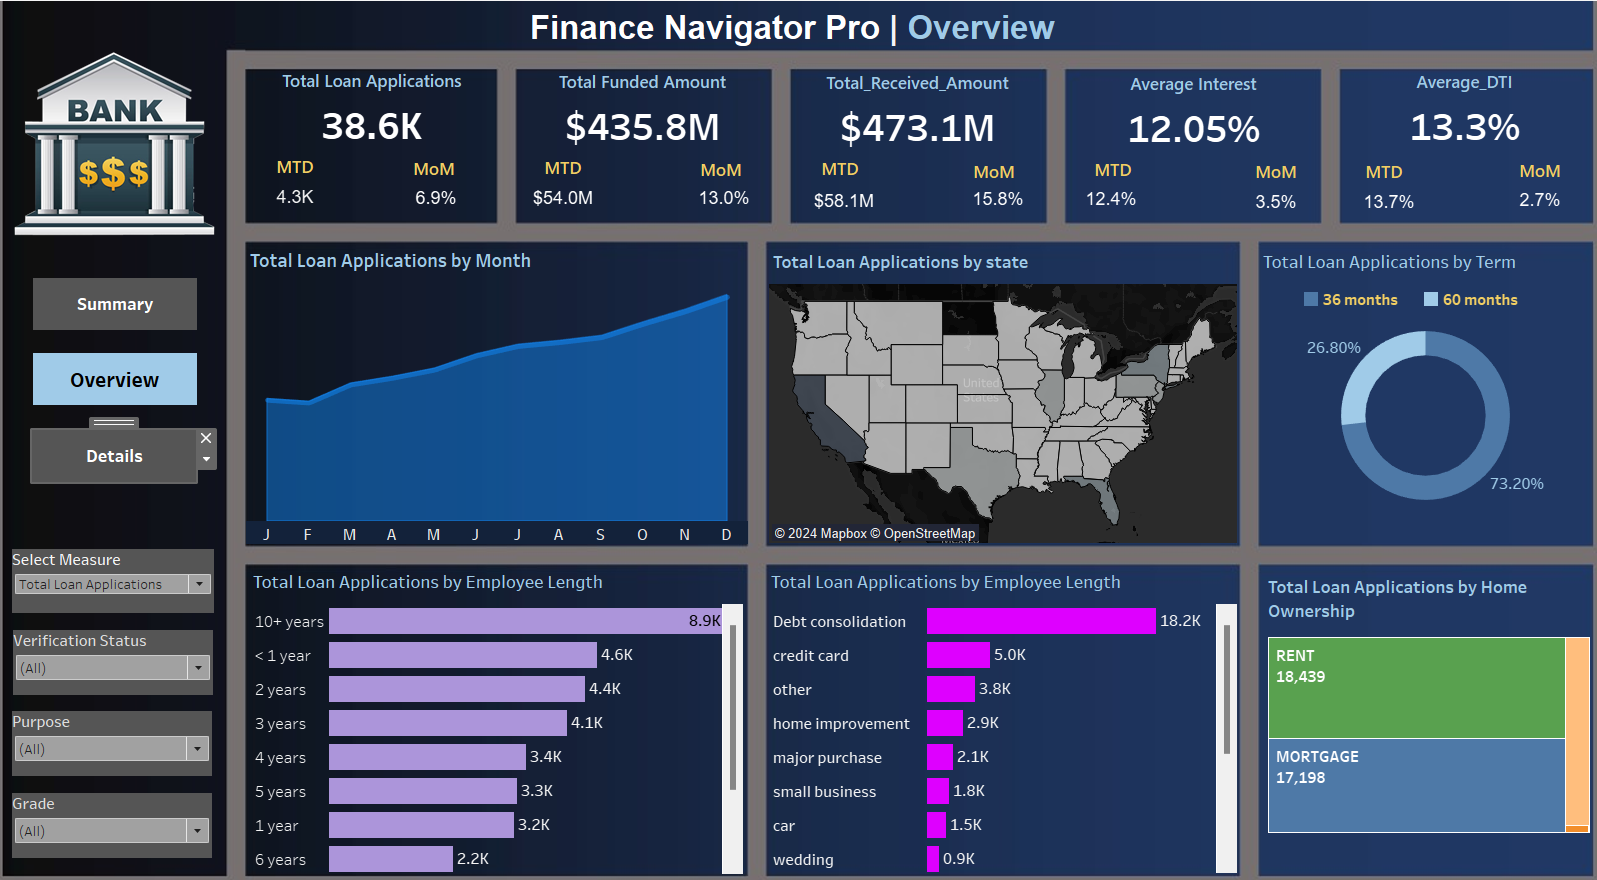

This screenshot's page, from the dashboard's own definition file:
{"tool":"tableau","page":{"name":"Overview","canvas":[1600,900],"ordinal":1},"visuals":[{"type":"text","box":[482,6,622,42]},{"type":"image","param":"Image/Tableau Background 1.jpg","box":[8,8,792,884]},{"type":"image","box":[800,8,792,884]},{"type":"image","param":"Image/logo1.png","box":[9,44,273,195]},{"type":"worksheet","title":"Total Loan Applications","mark":"Automatic","box":[247,64,252,80]},{"type":"worksheet","title":"Total Funded Amount","mark":"Automatic","box":[519,65,249,79]},{"type":"worksheet","title":"Average_DTI","mark":"Automatic","box":[1339,65,253,80]},{"type":"worksheet","title":"Total_Received_Amount","mark":"Automatic","box":[791,66,255,80]},{"type":"worksheet","title":"Average Interest","mark":"Automatic","box":[1088,67,213,79]},{"type":"worksheet","title":"MTD_DTI","mark":"Automatic","box":[1344,141,91,80]},{"type":"worksheet","title":"MoM_DTI","mark":"Automatic","box":[1496,143,89,72]},{"type":"worksheet","title":"MTD_Avgerage_Interest_Rate","mark":"Automatic","box":[1071,145,81,66]},{"type":"worksheet","title":"MoM_Avgerage_Interest_Rate","mark":"Automatic","box":[1229,147,95,67]},{"type":"text","box":[256,153,80,24]},{"type":"text","box":[524,154,80,24]},{"type":"text","box":[395,155,80,24]},{"type":"text","box":[801,155,80,24]},{"type":"text","box":[682,156,80,24]},{"type":"text","box":[1074,156,80,24]},{"type":"text","box":[1501,157,80,24]},{"type":"text","box":[955,158,80,24]},{"type":"text","box":[1237,158,80,24]},{"type":"text","box":[1345,158,80,24]},{"type":"worksheet","title":"MTD_Amount_Received","mark":"Automatic","box":[806,164,78,51]},{"type":"worksheet","title":"MoM_Loan Application ","mark":"Automatic","box":[403,175,67,43]},{"type":"worksheet","title":"MTD_Loan Application","mark":"Automatic","box":[252,178,87,35]},{"type":"worksheet","title":"MTD_Funded_Amount","mark":"Automatic","box":[527,180,74,34]},{"type":"worksheet","title":"MOM_Received_Amount","mark":"Automatic","box":[956,183,85,30]},{"type":"worksheet","title":"MoM_Funded_Amount ","mark":"Automatic","box":[690,184,70,26]},{"type":"worksheet","title":"Month","mark":"Area","rows":["Calculation_446137897162797056","Calculation_446137897162797056"],"cols":["issue_date"],"box":[247,242,502,301]},{"type":"worksheet","title":"state","mark":"Automatic","box":[770,244,468,298]},{"type":"worksheet","title":"Term","mark":"Pie","rows":["Calculation_446137897182035970","Calculation_446137897182035970"],"box":[1260,244,333,302]},{"type":"dashboard-object","box":[34,277,164,52]},{"type":"legend","title":"Term","param":"[federated.1fspyx60za0spv1bvc3qw0eojgrr].[none:term:nk]","box":[1302,288,289,32]},{"type":"dashboard-object","box":[34,352,164,52]},{"type":"dashboard-object","box":[33,429,164,52]},{"type":"parameter","param":"[Parameters].[Parameter 2]","box":[13,548,202,64]},{"type":"worksheet","title":"Employee Length","mark":"Automatic","rows":["emp_length"],"cols":["Calculation_446137897162797056"],"box":[250,564,494,309]},{"type":"worksheet","title":"Purpose","mark":"Automatic","rows":["purpose"],"cols":["Calculation_446137897162797056"],"box":[768,564,471,308]},{"type":"worksheet","title":"Home Ownership","mark":"Automatic","box":[1265,569,329,301]},{"type":"filter","title":"Average Interest","param":"[federated.1fspyx60za0spv1bvc3qw0eojgrr].[none:verification_status:nk]","box":[14,629,200,65]},{"type":"filter","title":"Average Interest","param":"[federated.1fspyx60za0spv1bvc3qw0eojgrr].[none:purpose:nk]","box":[13,710,200,65]},{"type":"filter","title":"Average Interest","param":"[federated.1fspyx60za0spv1bvc3qw0eojgrr].[none:grade:nk]","box":[13,792,200,65]}]}

Visuals, with their boxes in screenshot pixels (x1, y1, x2, y2), scaled from the page's 1600x900 canvas onto the 1597x880 screenshot:
text: locate(481, 6, 1102, 47)
image: locate(8, 8, 798, 872)
image: locate(798, 8, 1589, 872)
image: locate(9, 43, 281, 234)
"Total Loan Applications" worksheet: locate(247, 63, 498, 141)
"Total Funded Amount" worksheet: locate(518, 64, 767, 141)
"Average_DTI" worksheet: locate(1336, 64, 1589, 142)
"Total_Received_Amount" worksheet: locate(790, 65, 1044, 143)
"Average Interest" worksheet: locate(1086, 66, 1299, 143)
"MTD_DTI" worksheet: locate(1341, 138, 1432, 216)
"MoM_DTI" worksheet: locate(1493, 140, 1582, 210)
"MTD_Avgerage_Interest_Rate" worksheet: locate(1069, 142, 1150, 206)
"MoM_Avgerage_Interest_Rate" worksheet: locate(1227, 144, 1322, 209)
text: locate(256, 150, 335, 173)
text: locate(523, 151, 603, 174)
text: locate(394, 152, 474, 175)
text: locate(799, 152, 879, 175)
text: locate(681, 153, 761, 176)
text: locate(1072, 153, 1152, 176)
text: locate(1498, 154, 1578, 177)
text: locate(953, 154, 1033, 178)
text: locate(1235, 154, 1315, 178)
text: locate(1342, 154, 1422, 178)
"MTD_Amount_Received" worksheet: locate(804, 160, 882, 210)
"MoM_Loan Application " worksheet: locate(402, 171, 469, 213)
"MTD_Loan Application" worksheet: locate(252, 174, 338, 208)
"MTD_Funded_Amount" worksheet: locate(526, 176, 600, 209)
"MOM_Received_Amount" worksheet: locate(954, 179, 1039, 208)
"MoM_Funded_Amount " worksheet: locate(689, 180, 759, 205)
"Month" worksheet (Area marks): locate(247, 237, 748, 531)
"state" worksheet: locate(769, 239, 1236, 530)
"Term" worksheet (Pie marks): locate(1258, 239, 1590, 534)
dashboard-object: locate(34, 271, 198, 322)
"Term" legend: locate(1300, 282, 1588, 313)
dashboard-object: locate(34, 344, 198, 395)
dashboard-object: locate(33, 419, 197, 470)
parameter: locate(13, 536, 215, 598)
"Employee Length" worksheet: locate(250, 551, 743, 854)
"Purpose" worksheet: locate(767, 551, 1237, 853)
"Home Ownership" worksheet: locate(1263, 556, 1591, 851)
"Average Interest" filter: locate(14, 615, 214, 679)
"Average Interest" filter: locate(13, 694, 213, 758)
"Average Interest" filter: locate(13, 774, 213, 838)
